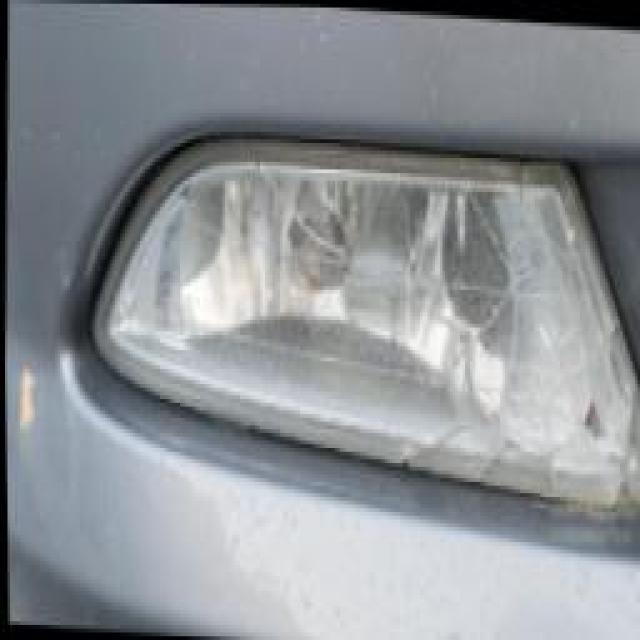Light: (90, 143, 640, 501)
